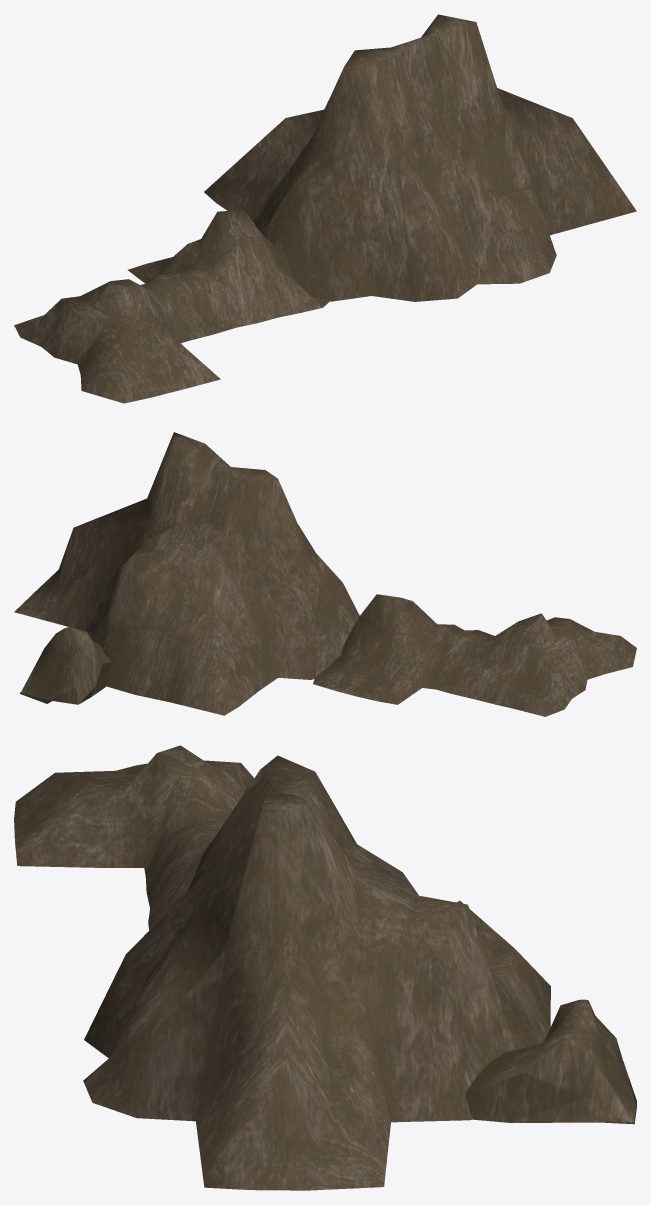
The model's file is Duna.obj.
3 renders of one model, top to bottom at view 1: azimuth 30°, elevation 25°; view 2: azimuth 150°, elevation 25°; view 3: azimuth 270°, elevation 25°, orthographic. The views are drawn at different scales.
Visible parts, largest first — view 1: duna; view 2: duna; view 3: duna.
Part boxes in pixels (<box>): duna: <box>14,14,636,403</box>; duna: <box>14,432,636,716</box>; duna: <box>14,745,636,1190</box>.
Size of the model in its own units: 172 by 58.57 by 113.
1 material, 1 textured.
